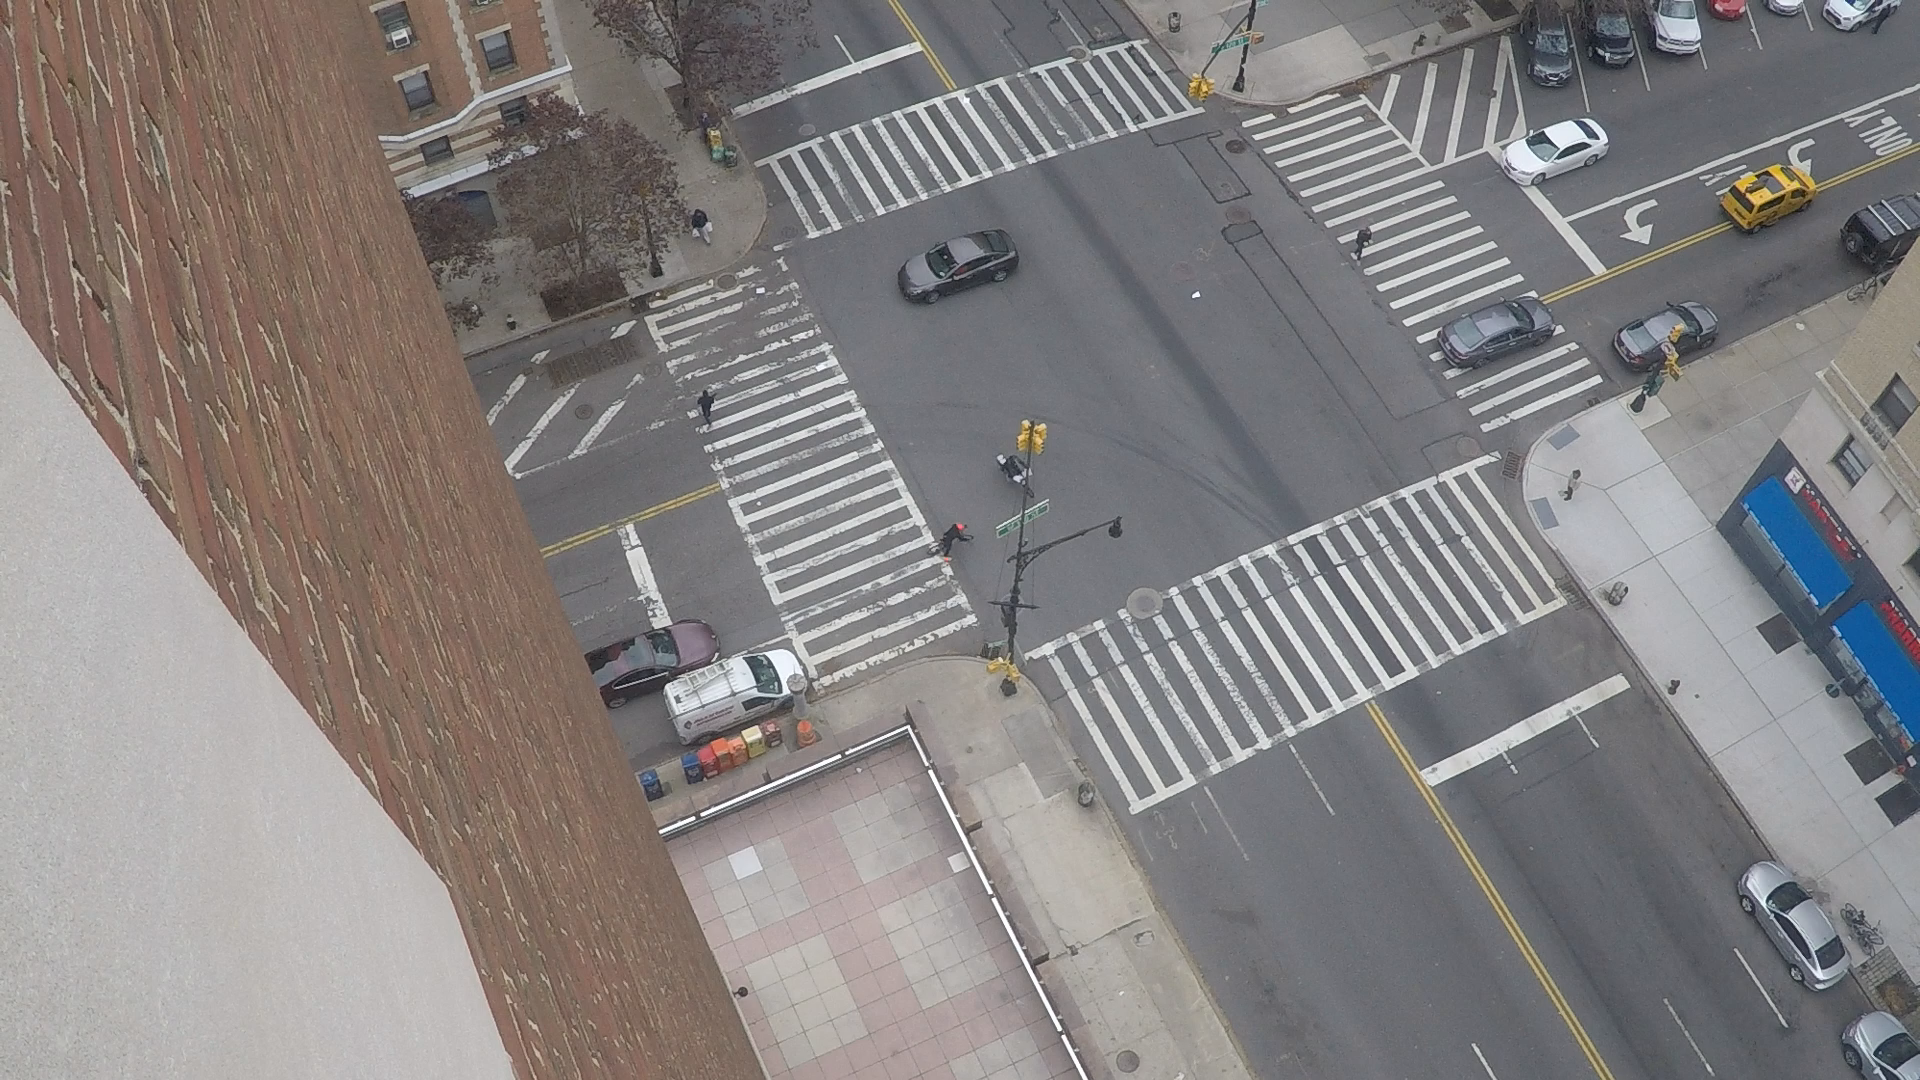Car: (1642, 1, 1652, 38), (1728, 217, 1735, 225), (1916, 191, 1919, 209), (1526, 48, 1527, 64)
Pedestrian: (699, 208, 703, 212), (952, 555, 955, 556)
